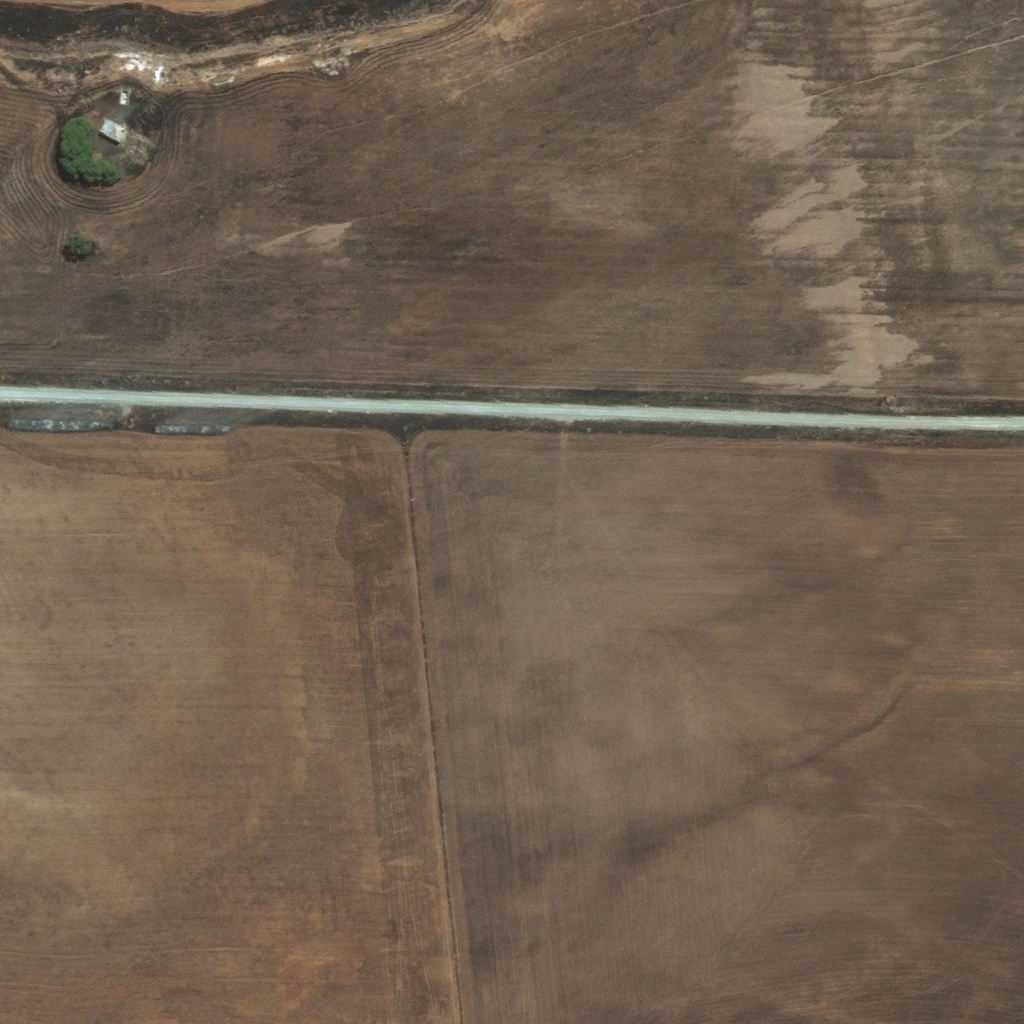0 no-damage: (99, 115, 128, 142)
